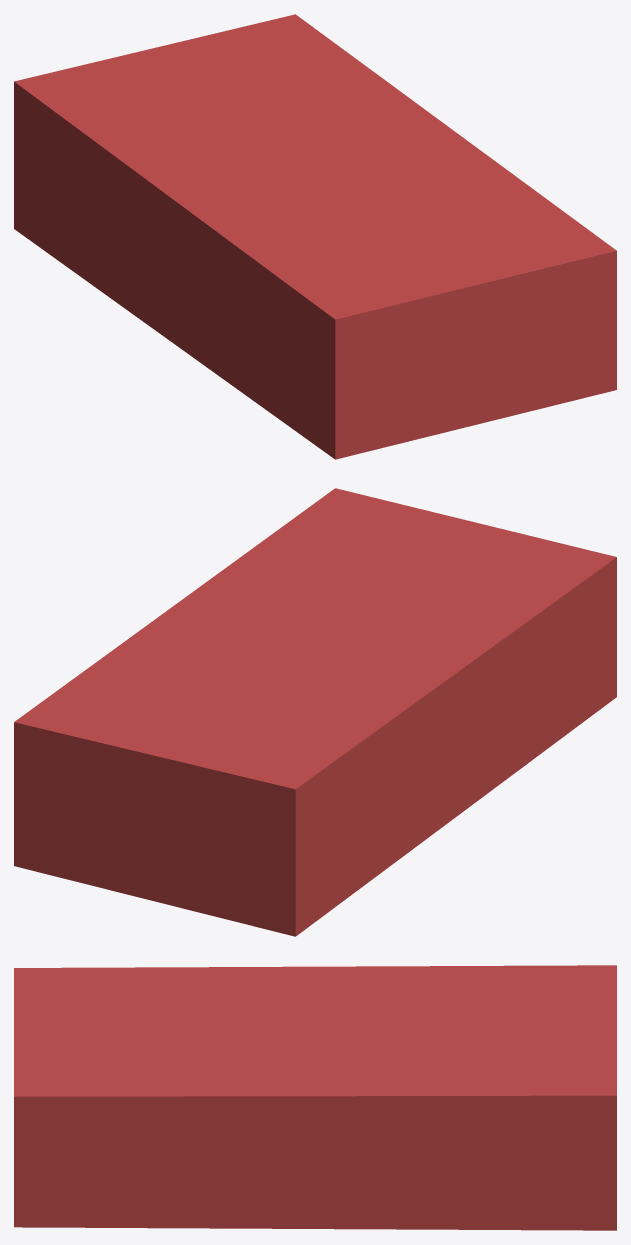
Rendered from FAS.glb.
3 renders of one model, top to bottom at view 1: azimuth 30°, elevation 25°; view 2: azimuth 150°, elevation 25°; view 3: azimuth 270°, elevation 25°, orthographic. The views are drawn at different scales.
Visible parts, largest first — view 1: FAS; view 2: FAS; view 3: FAS.
Boxes of the visible parts, <box> form: FAS: <box>14,14,616,459</box>; FAS: <box>14,488,616,936</box>; FAS: <box>14,965,616,1230</box>.
Bounding box in the file's own units: 0.1223 × 0.0624 × 0.2416.
Materials: 1 (1 with a texture image).
